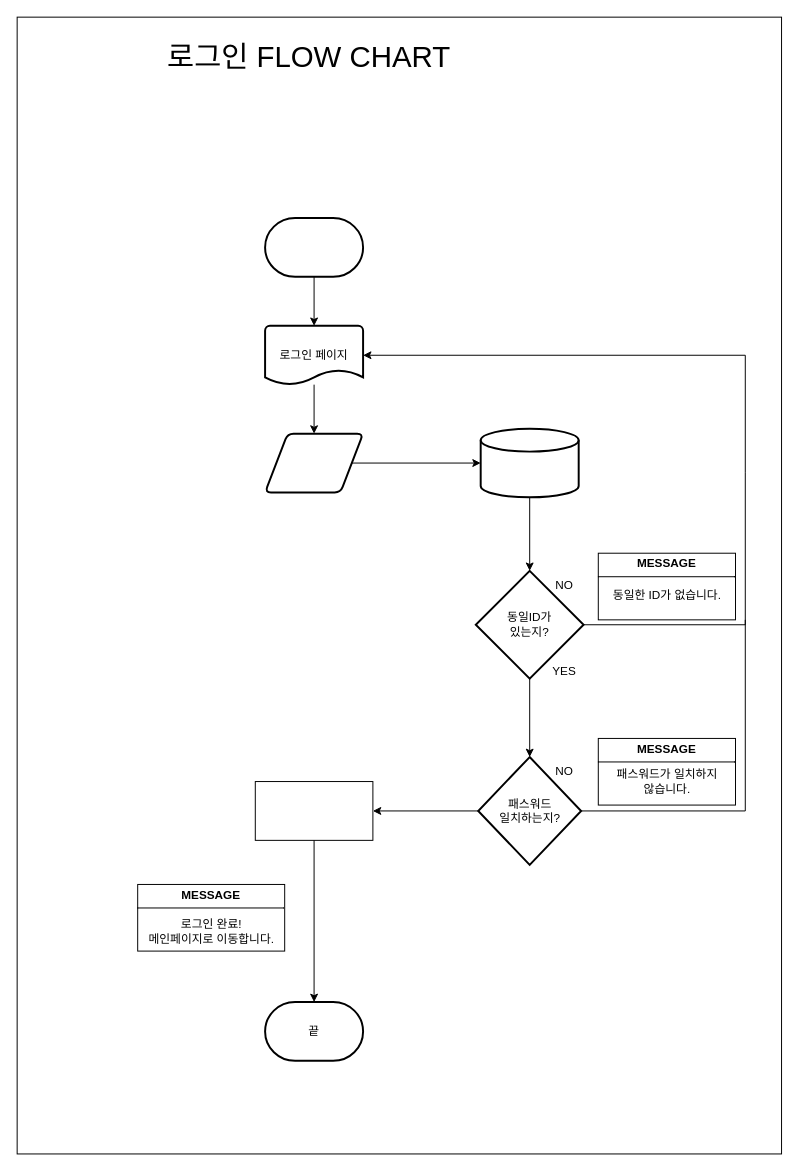
Image size: 799x1171. Some labels were removed from this diagram. Here are the shapes that lost their labels. From the top down, the centre of each, then its label:
At (314,247): "시작".
At (314,462): "IDPW 입력".
At (529,462): "TBL_USER".
At (313,810): "로그인 처리".
